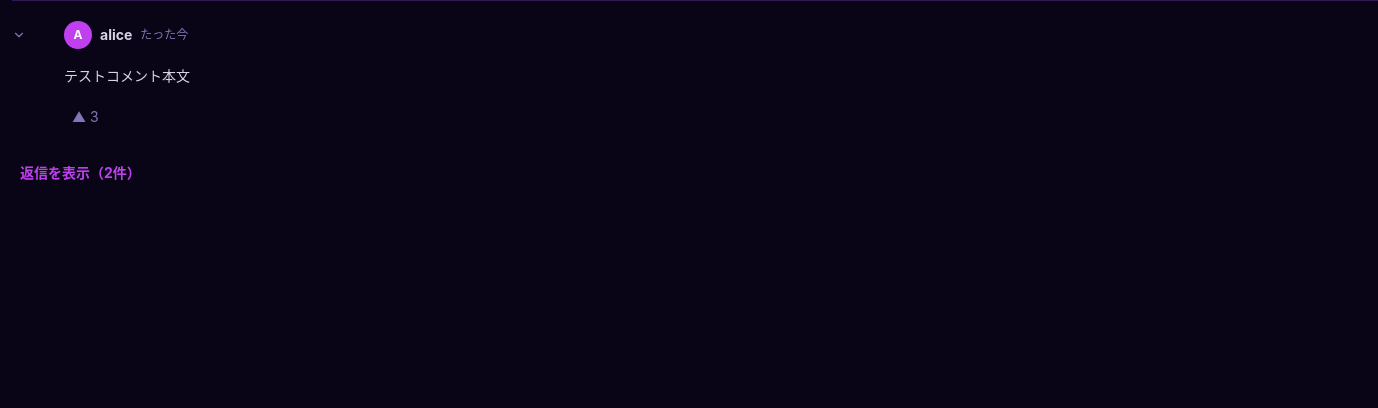
CommentItem の返信 › 押すと返信を取って表示する
Click the button "返信を表示（2件）".
click(80, 173)  # box [12,151,149,195]
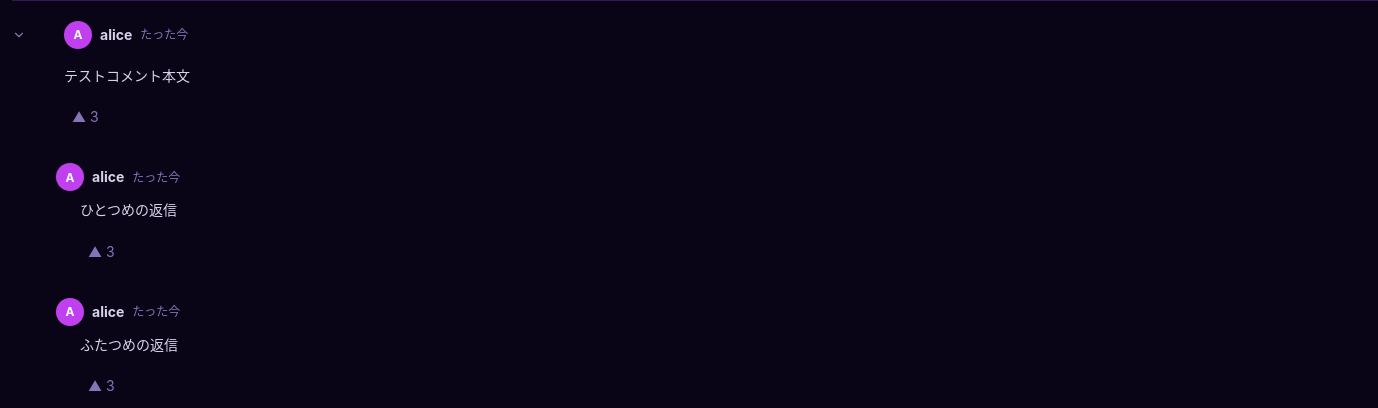
Expected: the text "ひとつめの返信" is shown, [80,201,177,218]
Expected: the text "ふたつめの返信" is shown, [80,336,178,353]
